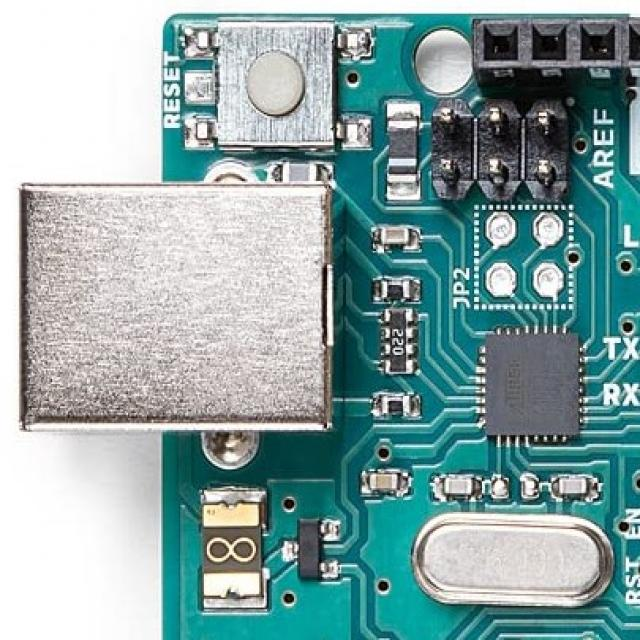2235: (185, 8, 372, 151), (292, 508, 333, 586)
IC: (484, 324, 588, 452)
capacitor 1V5: (360, 455, 406, 503), (276, 157, 323, 195), (437, 471, 479, 510), (375, 214, 420, 248), (558, 471, 594, 509)
clock Q1: (396, 510, 614, 618)
connector -5v-: (0, 182, 343, 430), (475, 15, 640, 93), (422, 94, 478, 204), (526, 88, 565, 224), (482, 94, 520, 204)
resistor IR1: (202, 484, 265, 608), (386, 106, 426, 182), (378, 298, 413, 373), (378, 384, 425, 428), (374, 270, 426, 305)
